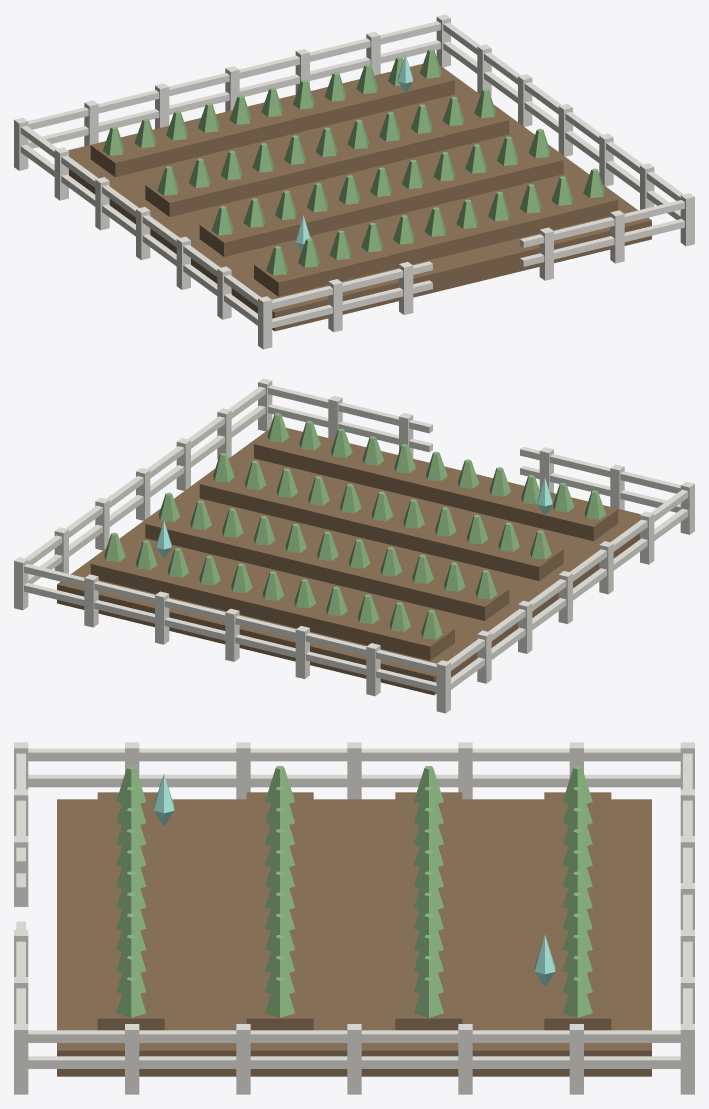
Rendered from SonMon_herbgarden.fbx.
3 renders of one model, top to bottom at view 1: azimuth 30°, elevation 25°; view 2: azimuth 150°, elevation 25°; view 3: azimuth 270°, elevation 25°, orthographic. The views are drawn at different scales.
Visible parts, largest first — view 1: herbgarden; view 2: herbgarden; view 3: herbgarden.
Boxes of the visible parts, x1=… form: herbgarden: x1=14, y1=14, x2=694, y2=349; herbgarden: x1=14, y1=378, x2=694, y2=713; herbgarden: x1=14, y1=742, x2=694, y2=1094.
Size of the model in its own units: 2.86 by 0.45 by 2.86.
